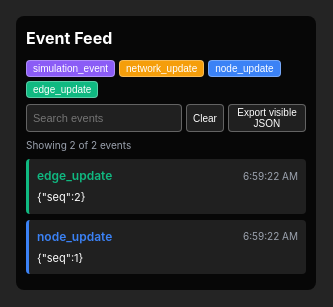
Scenario: EventFeed operations › channel filter buttons expose semantic pressed state and hide without dropping
Click the button "node_update": (244, 68) [208, 60, 281, 77]
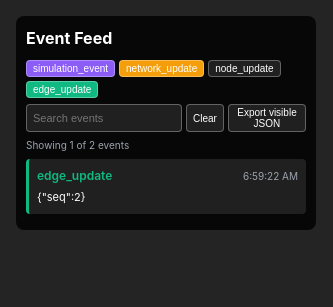
expect the text with test id "feed-summary" reads "Showing 1 of 2 events": met, box [26, 139, 129, 151]
Click the button "node_update": (244, 68) [208, 60, 281, 77]
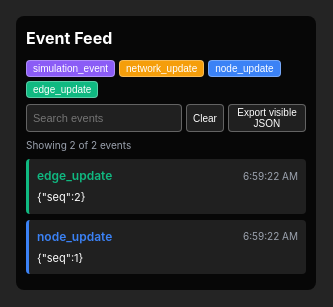
expect the text with test id "feed-summary" reads "Showing 2 of 2 events": met, box [26, 139, 131, 151]
